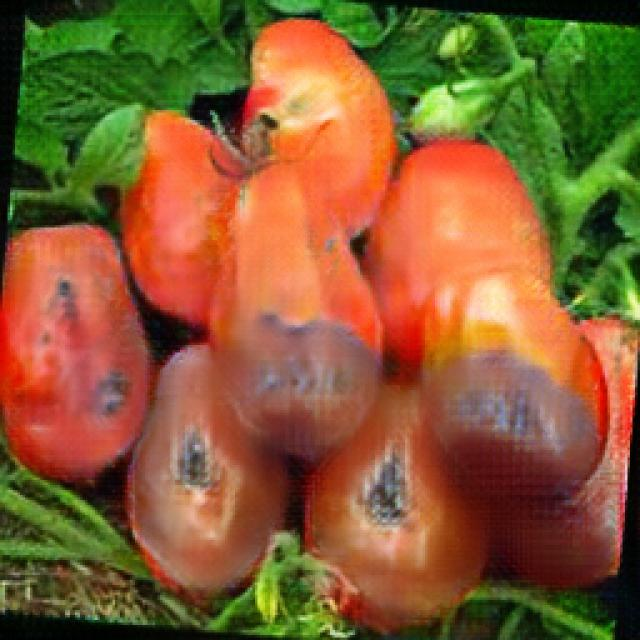overripe tomato: (208, 142, 376, 451), (412, 262, 607, 498), (320, 383, 492, 628), (128, 342, 284, 586), (0, 220, 151, 470)
